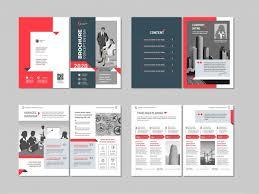paper: (19, 105, 122, 177), (19, 17, 120, 89), (133, 17, 233, 89), (133, 105, 234, 176)
